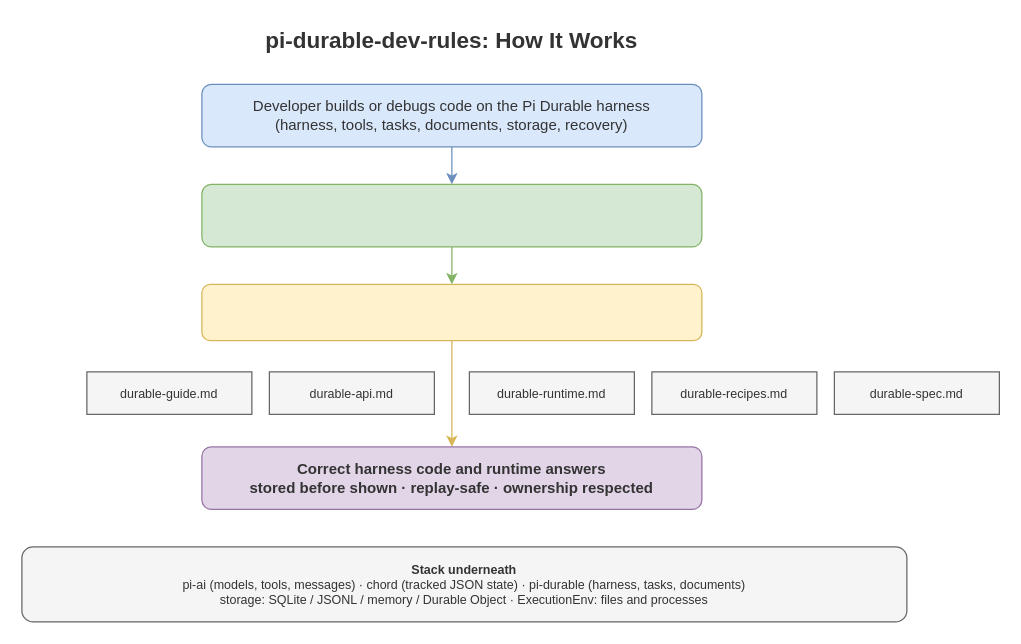
This 1021x644 diagram has some shape labels left out. Here are the shapes that lost their labels. From the top down, the box of each, then its label:
(201, 183, 702, 247): Agent loads SKILL.md (description matches the request)
(201, 283, 702, 341): Agent consults the reference index and loads the relevant file(s):
